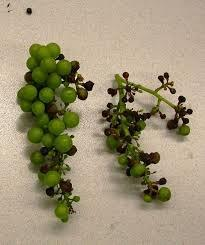Grape Rotten: (17, 42, 94, 222), (102, 70, 194, 202)
